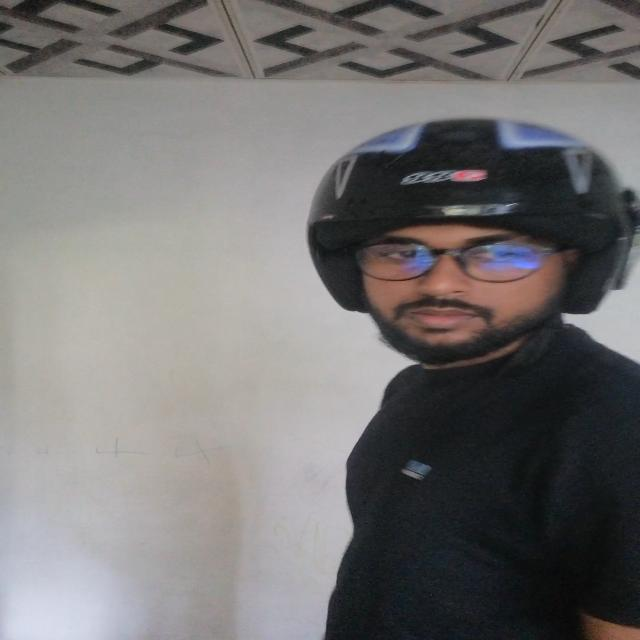Helmet_Wearer: (271, 114, 640, 382)
Person: (284, 114, 640, 640)
